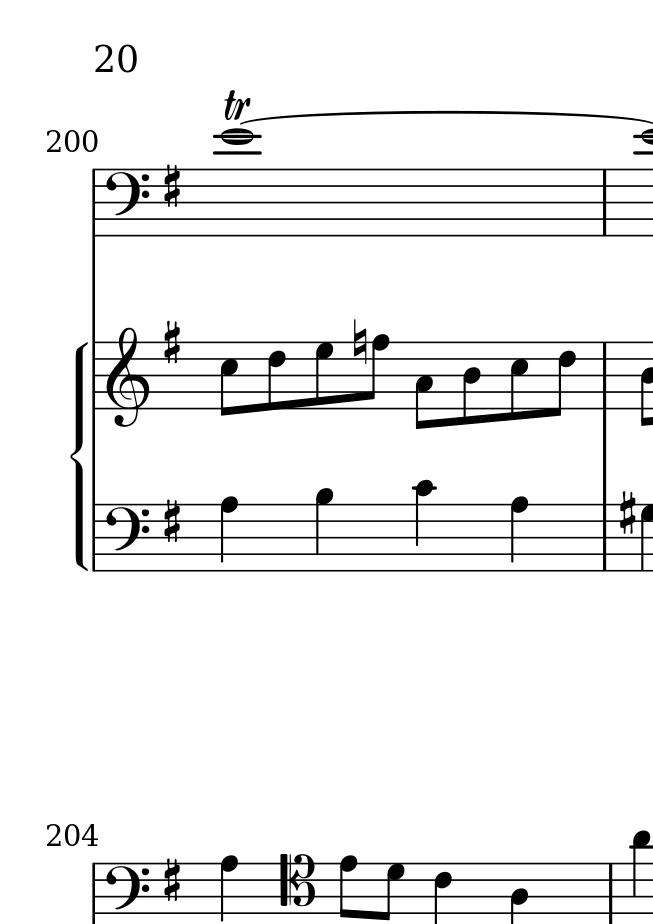0: (116, 42, 137, 74), (64, 822, 80, 849), (83, 129, 98, 155), (65, 129, 80, 154)
1_12: (217, 127, 257, 242)
2: (94, 43, 114, 74), (44, 822, 63, 849), (44, 129, 62, 154)
4: (81, 821, 98, 846)
4_10: (412, 478, 436, 572)
4_8: (215, 494, 243, 575), (508, 495, 529, 572)
4_9: (312, 485, 334, 572)
8_3: (413, 338, 435, 434)
8_4: (459, 339, 483, 431)
8_5: (506, 340, 530, 422), (219, 339, 240, 417)
8_6: (549, 340, 577, 418), (267, 341, 288, 413)
8_7: (313, 338, 340, 413)
8_8: (365, 334, 392, 410)
Brace: (68, 342, 88, 571)
Fclef: (99, 163, 151, 239), (102, 502, 150, 576)
Gclef: (107, 325, 149, 431)
Natural: (348, 316, 367, 364)
Sharp: (160, 855, 185, 906), (160, 316, 186, 365), (160, 161, 184, 212), (162, 496, 184, 546), (618, 490, 636, 539)
Single_barline: (84, 169, 105, 236), (595, 504, 615, 571), (86, 340, 105, 410), (596, 341, 614, 409), (597, 168, 613, 236), (88, 504, 103, 572)
Slur: (241, 111, 653, 127)
Trill: (222, 89, 251, 122)
